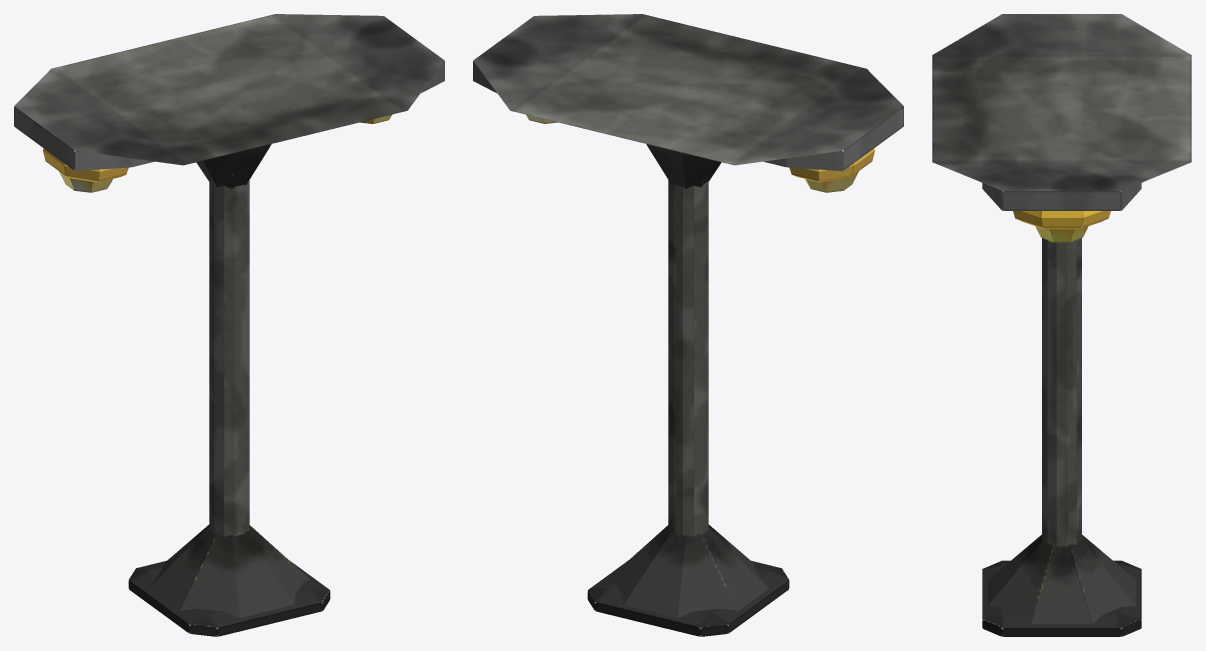
The model's file is lamp.obj.
3 views of the same model, side by side, from view 1: azimuth 30°, elevation 25°; view 2: azimuth 150°, elevation 25°; view 3: azimuth 270°, elevation 25° (orthographic). The views are drawn at different scales.
Visible parts, largest first — view 1: top, stem, stem_rim, bottom, light_rim, sphere; view 2: top, stem, stem_rim, bottom, light_rim, sphere; view 3: top, stem, stem_rim, bottom, light_rim, sphere.
Part boxes in pixels (x1,y1,x2,y2): top: [14, 14, 444, 171]; stem: [209, 180, 249, 536]; stem_rim: [148, 144, 309, 617]; bottom: [128, 560, 330, 636]; light_rim: [43, 148, 128, 182]; sphere: [59, 114, 392, 192]; top: [473, 14, 903, 171]; stem: [668, 180, 708, 536]; stem_rim: [608, 144, 769, 617]; bottom: [587, 560, 789, 636]; light_rim: [789, 148, 874, 182]; sphere: [525, 114, 858, 192]; top: [932, 14, 1191, 210]; stem: [1042, 238, 1081, 546]; stem_rim: [988, 535, 1135, 624]; bottom: [982, 560, 1141, 636]; light_rim: [1013, 211, 1110, 229]; sphere: [1035, 226, 1088, 242].
Size of the model in its own units: 2.63 by 3.5 by 1.62.
1 material, 1 textured.
